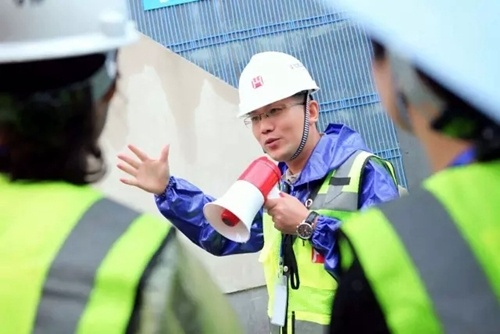white: (2, 1, 131, 175), (237, 44, 319, 163)
